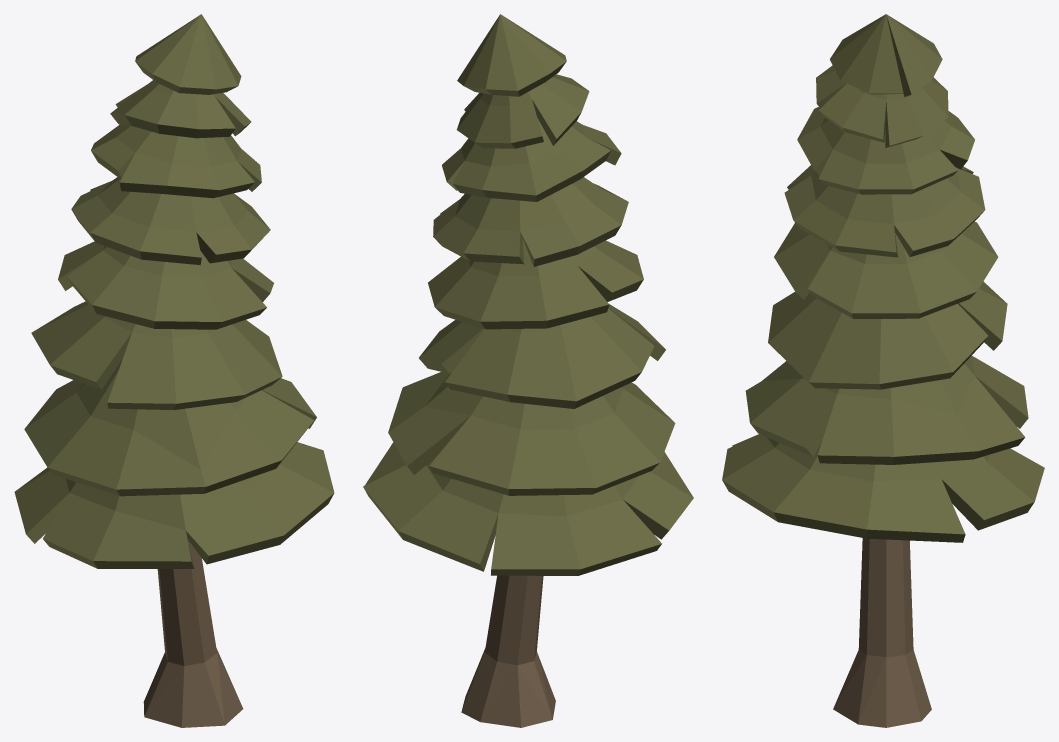
Rendered from SM_Envr_Nature_Tree_Pine_Large_01.fbx.
3 views of the same model, side by side, from view 1: azimuth 30°, elevation 25°; view 2: azimuth 150°, elevation 25°; view 3: azimuth 270°, elevation 25° (orthographic).
Parts seen in each view (by area): view 1: SM_Envr_Nature_Tree_Pine_Large_01; view 2: SM_Envr_Nature_Tree_Pine_Large_01; view 3: SM_Envr_Nature_Tree_Pine_Large_01.
Boxes of the visible parts, x1,y1,x2,y2 form: SM_Envr_Nature_Tree_Pine_Large_01: (14,14,334,727); SM_Envr_Nature_Tree_Pine_Large_01: (363,14,693,727); SM_Envr_Nature_Tree_Pine_Large_01: (722,14,1044,727).
Bounding box in the file's own units: 414 × 972 × 408.
